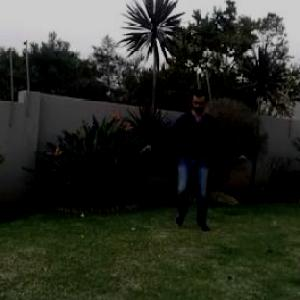land: (128, 82, 244, 227)
